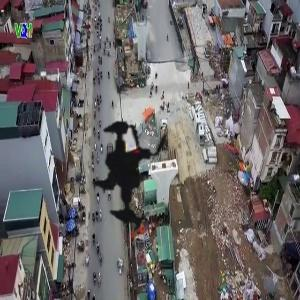drone: (52, 90, 222, 260)
